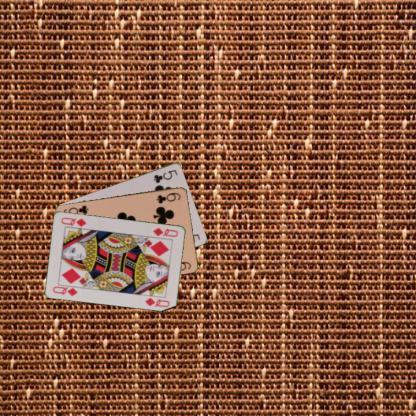5c: (150, 166, 178, 184)
6c: (154, 190, 182, 204)
Qd: (50, 281, 82, 297), (150, 224, 180, 238)
